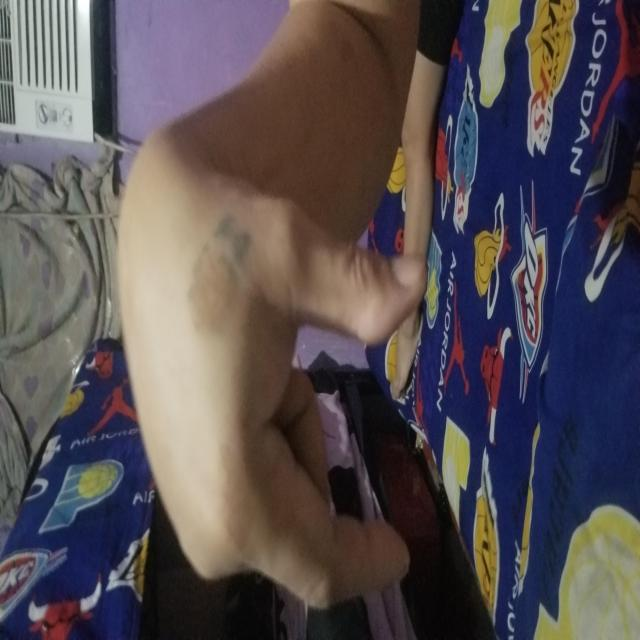Q: (28, 118, 475, 428)
